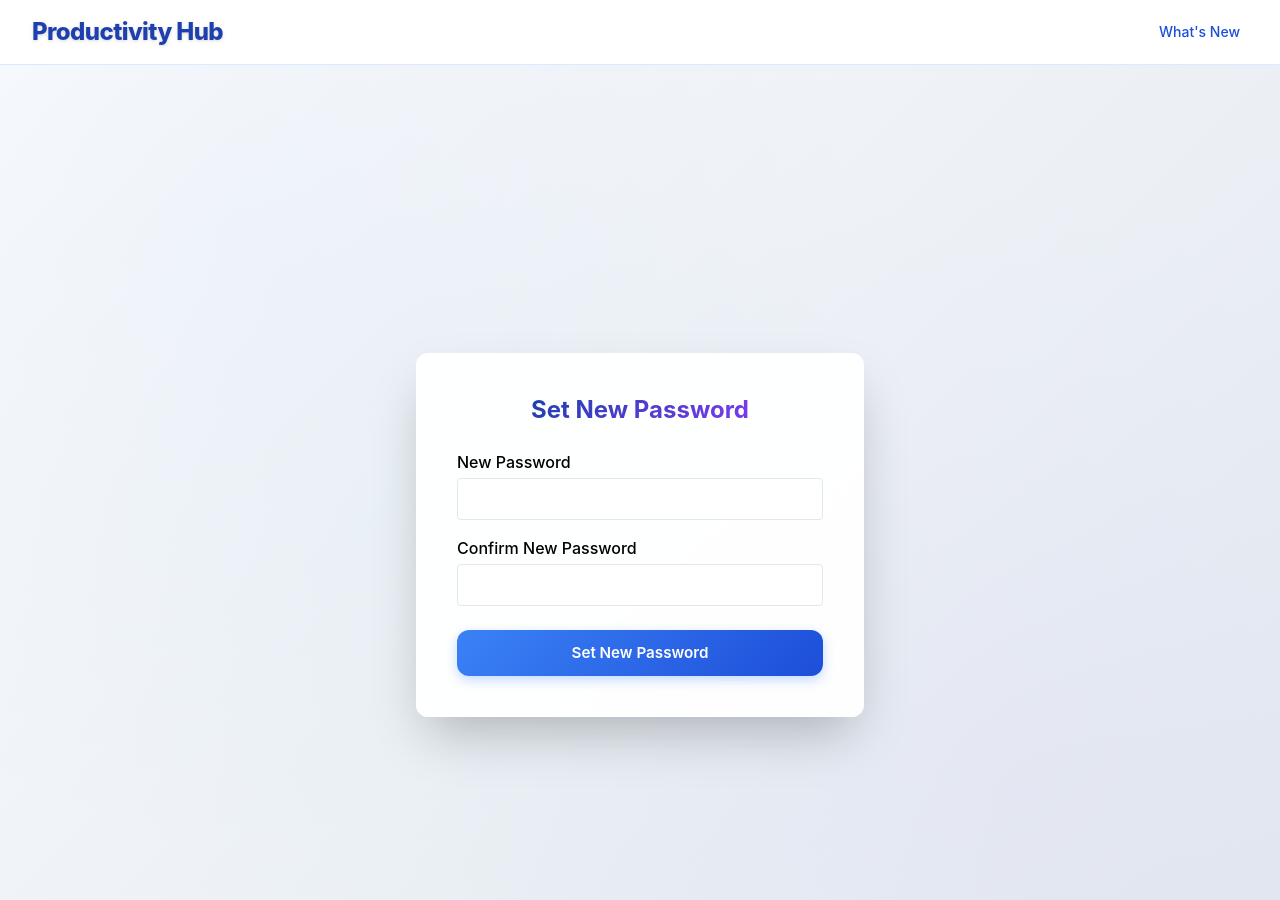
Scenario: PasswordResetConfirmPage › Password Validation › shows error when passwords do not match
Type "password123" into the password field labelled "New Password" at (640, 499), box [457,478,823,520]
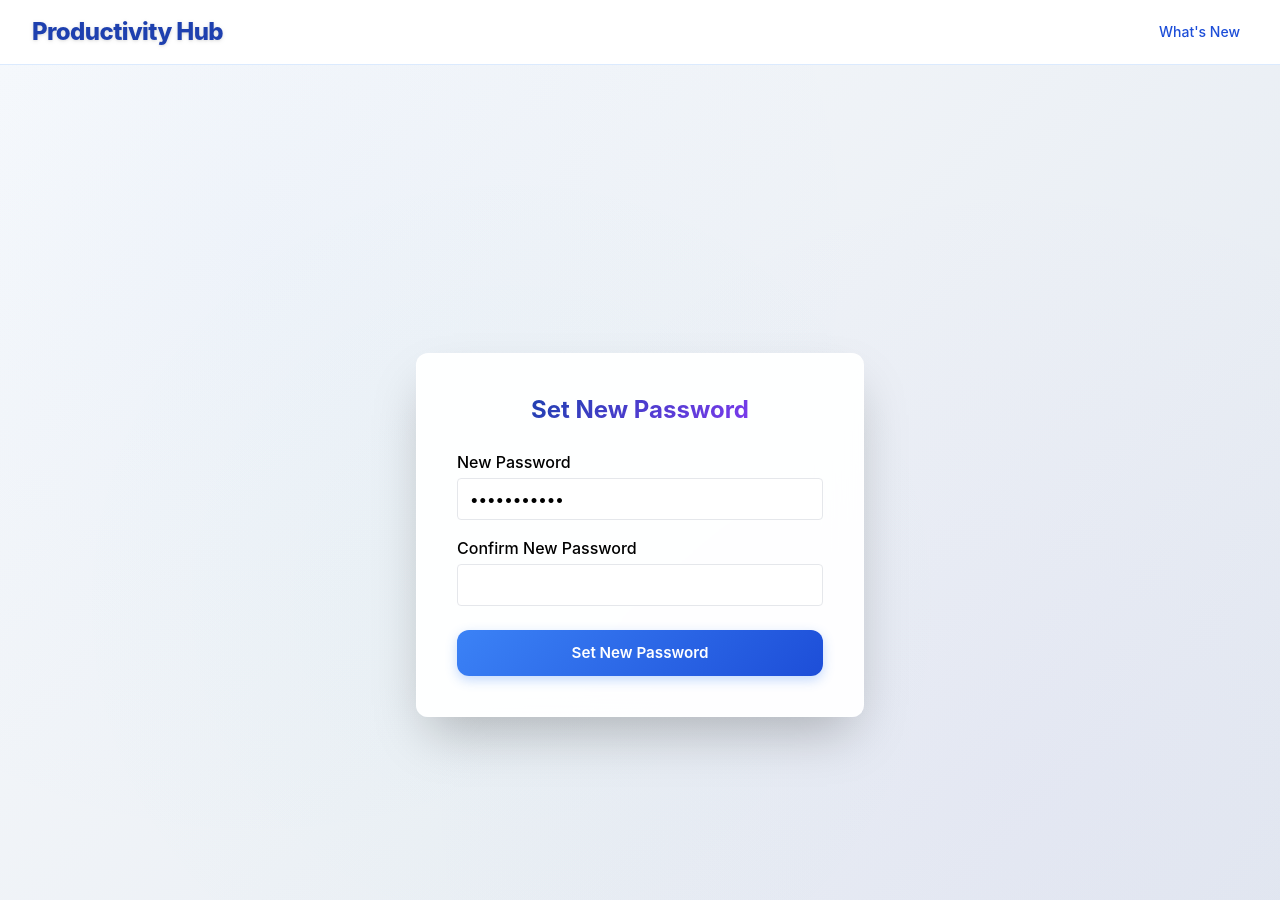
Type "differentpassword" into the password field labelled "Confirm New Password" at (640, 585), box [457,564,823,606]
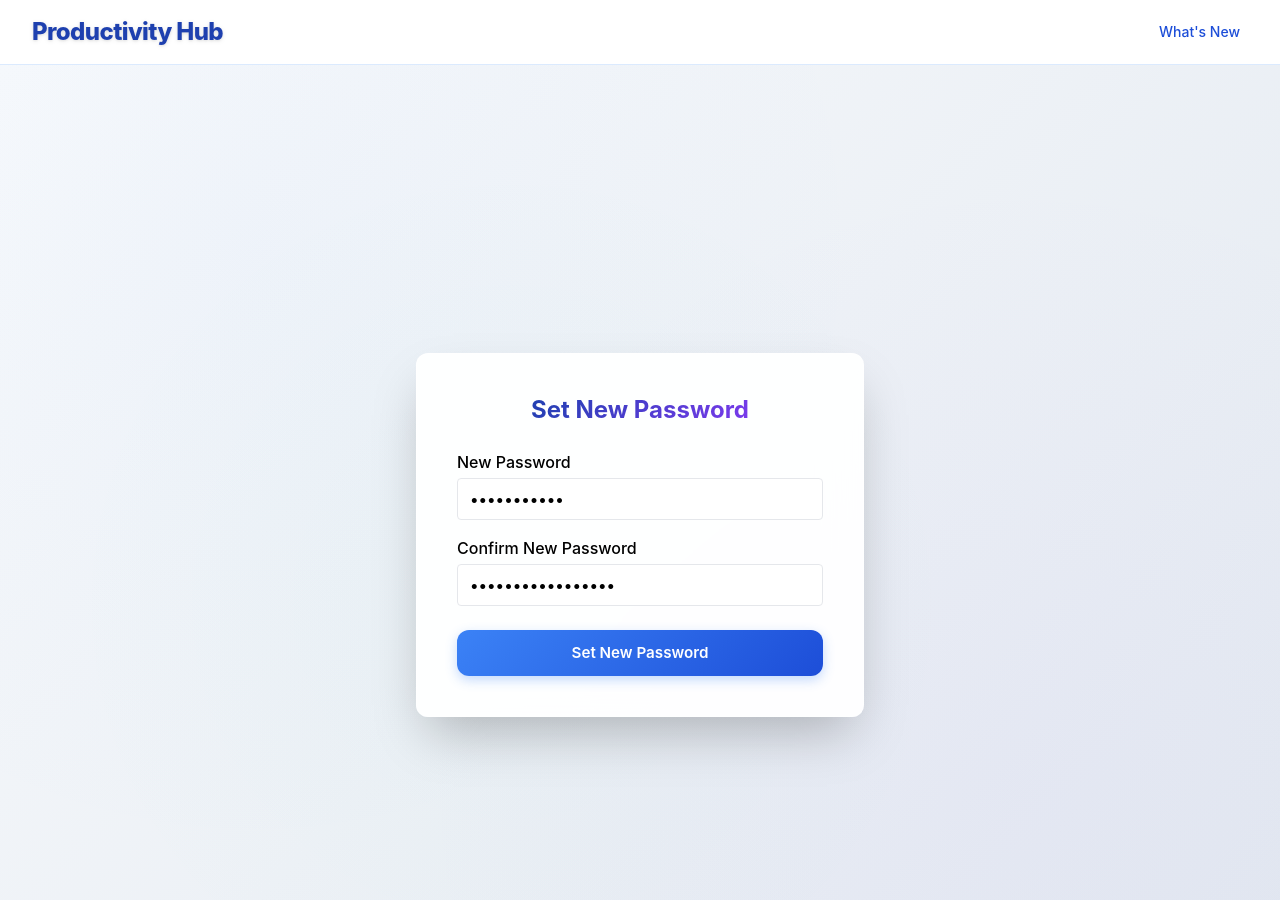
Click the button "Set New Password" at (640, 653), box [457,630,823,676]
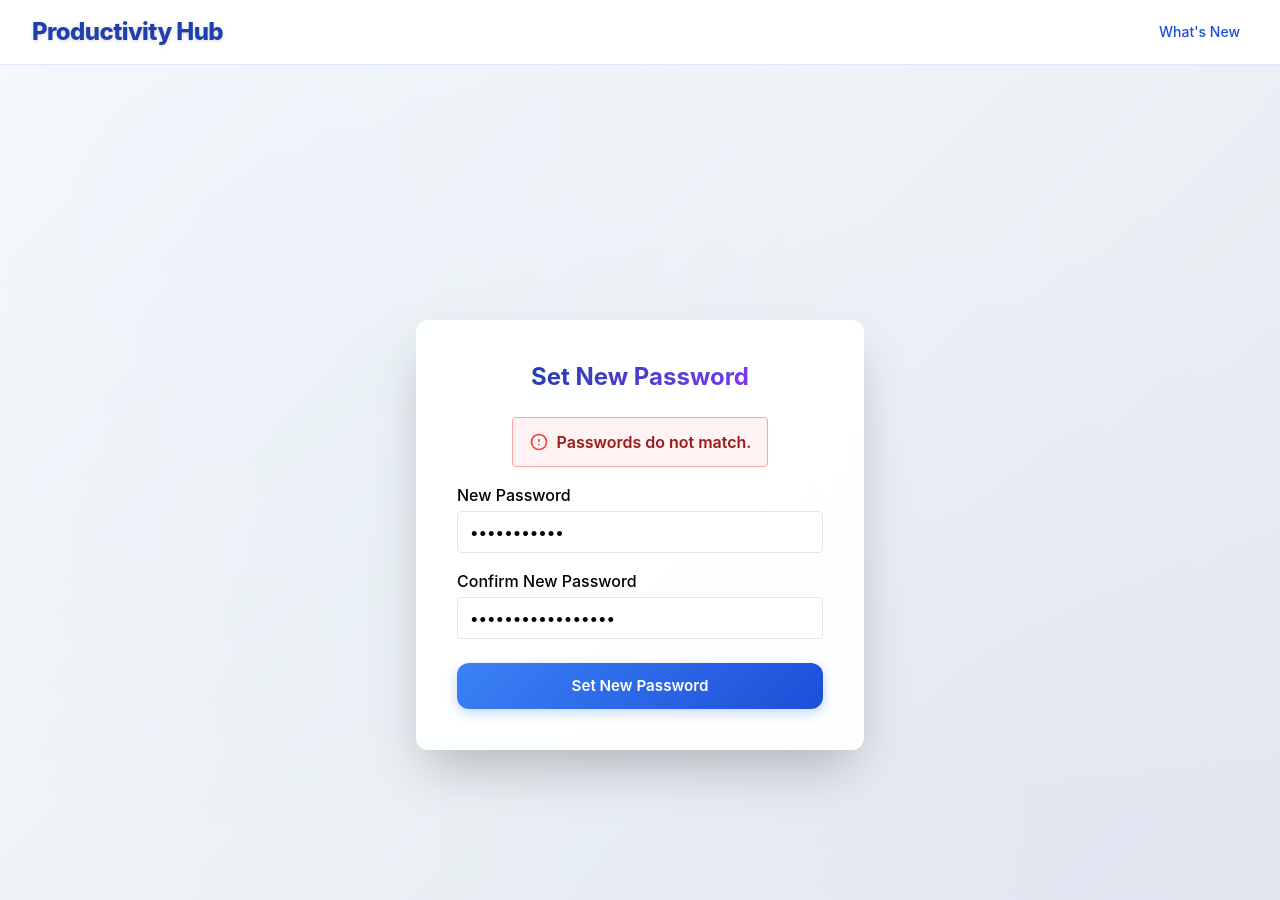
Expected: the text "Passwords do not match." is shown, [556,430,752,454]
